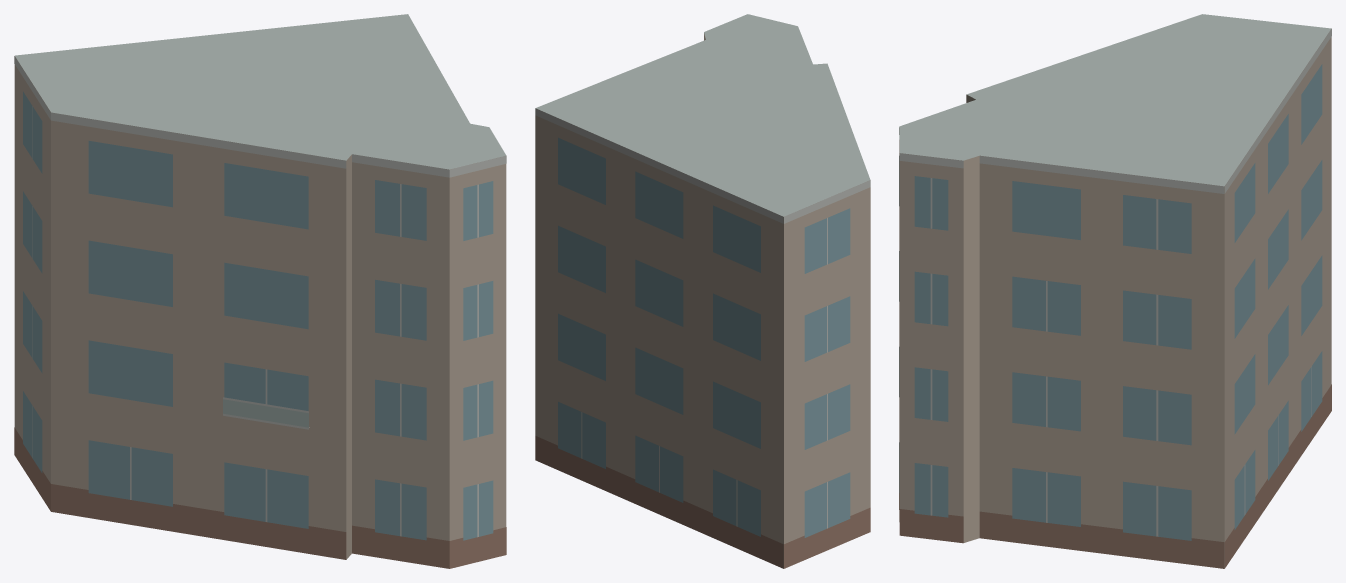
Rendered from survey-upis-32870134.glb.
3 renders of one model, left to right at view 1: azimuth 30°, elevation 25°; view 2: azimuth 150°, elevation 25°; view 3: azimuth 270°, elevation 25°, orthographic. The views are drawn at different scales.
Visible parts, largest first — view 1: survey-upis-32870134.tmp; view 2: survey-upis-32870134.tmp; view 3: survey-upis-32870134.tmp.
Part boxes in pixels (bbox=[...]): survey-upis-32870134.tmp: bbox=[14, 14, 506, 568]; survey-upis-32870134.tmp: bbox=[535, 14, 870, 568]; survey-upis-32870134.tmp: bbox=[899, 14, 1331, 568].
Size of the model in its own units: 11.6 by 12 by 12.3.
